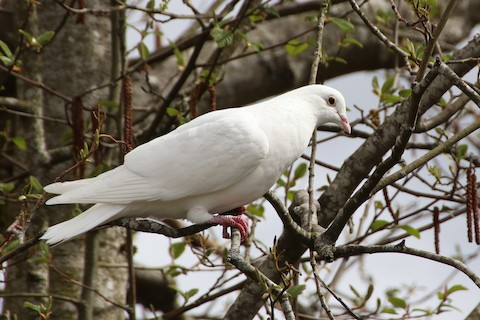pigeon: (32, 80, 354, 262)
